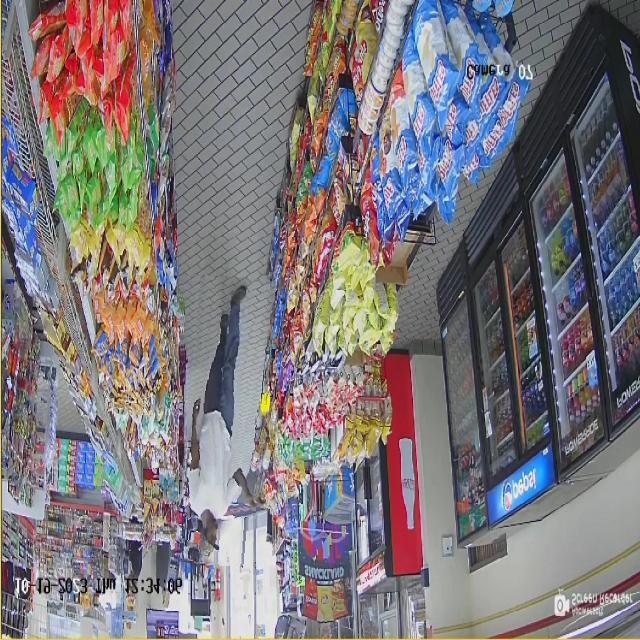Normal: (180, 276, 270, 566)
